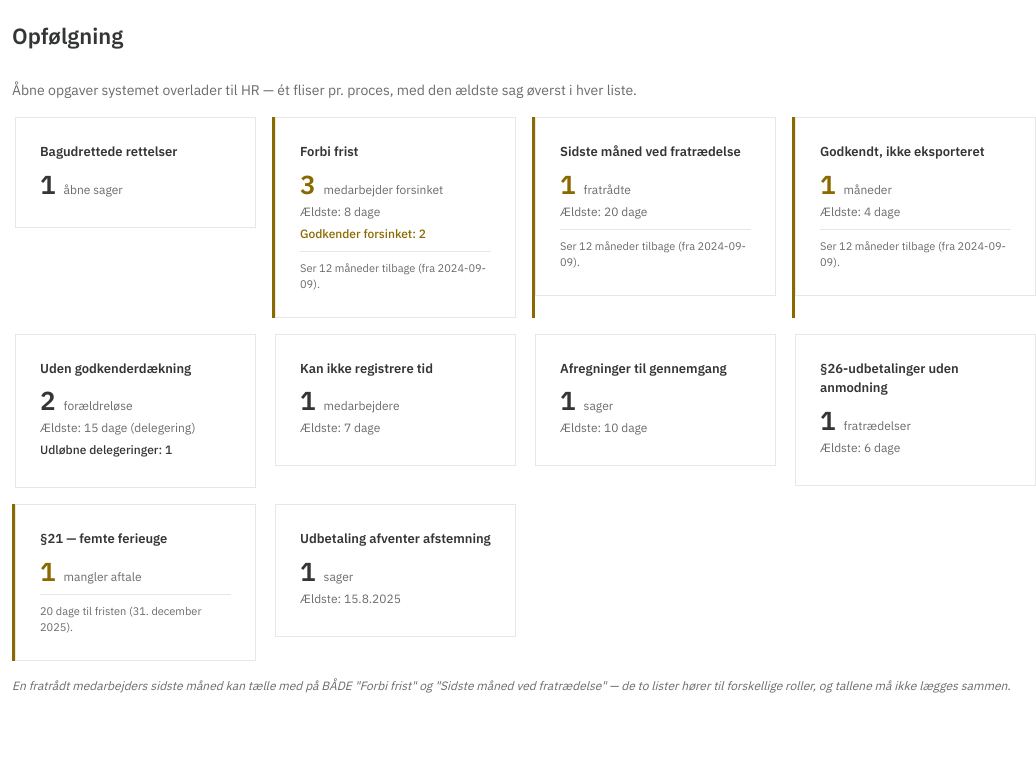
it: OpfoelgningPage — each tile opens its list › opens the worklist list
Click the button with test id "tile-worklist".
click(136, 172)  # box [40,142,231,202]
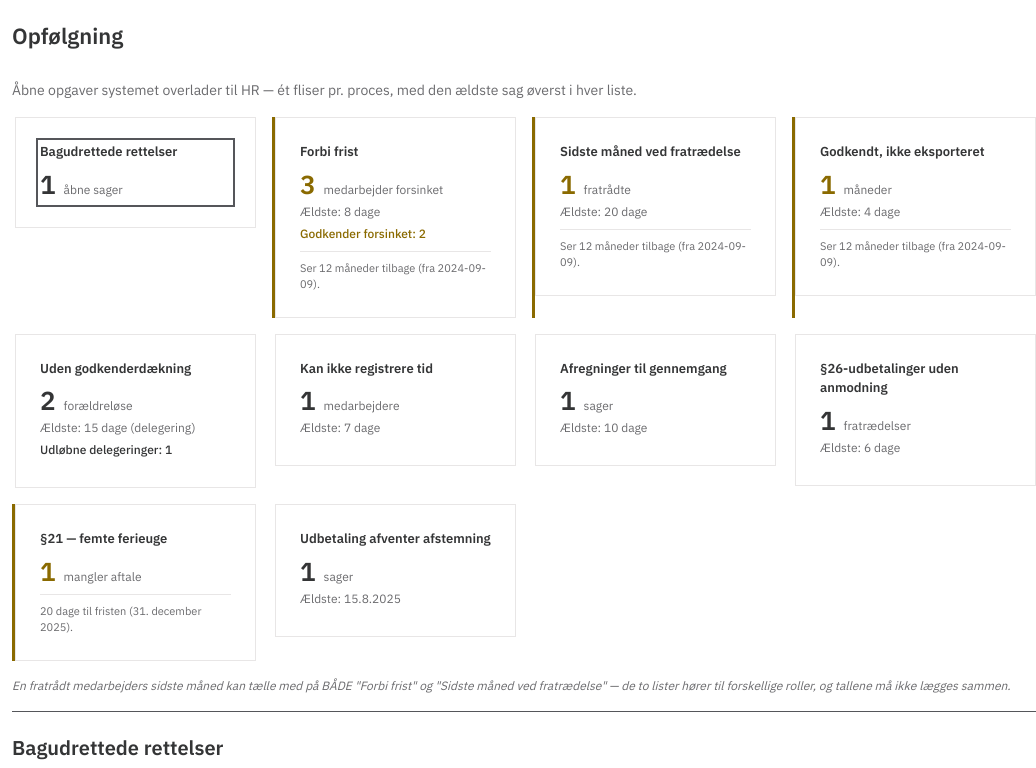
Expected: the heading "Bagudrettede rettelser" is shown, [12,734,224,760]
